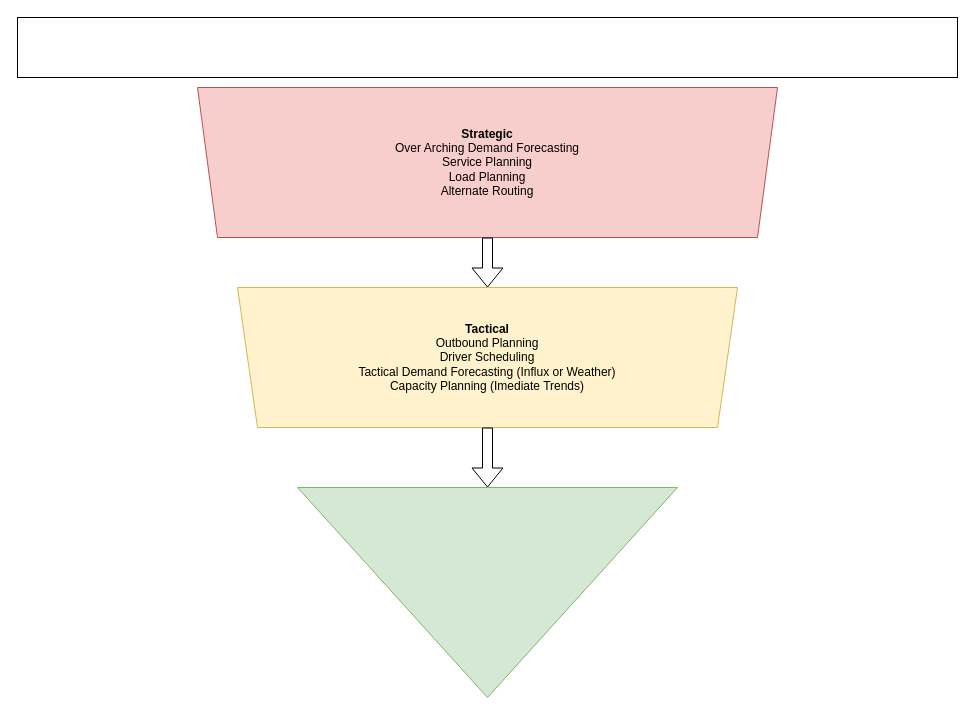
The diagram is 975 pixels wide and 715 high, and some of its shapes have lost their labels. Here are the shapes that lost their labels. From the top down, the box of each, then its label:
(16, 16, 958, 78): Linehaul--High Level Organization
(296, 486, 678, 698): Execution New Activity Screen-- Make decision on service
